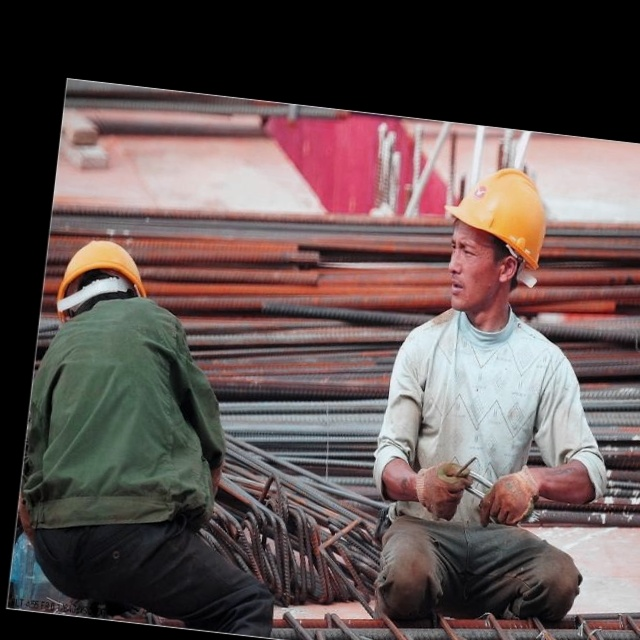Con_Casco: (441, 157, 553, 321)
Sin_Chaleco: (372, 315, 573, 530)
